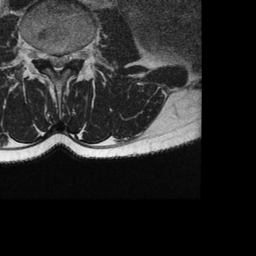CCS_stenosis: (54, 47, 62, 79)
LFS_normal: (71, 41, 80, 65)
LLS_normal: (62, 47, 71, 72)
RFS_normal: (39, 41, 47, 67)
RLS_normal: (47, 47, 54, 71)
